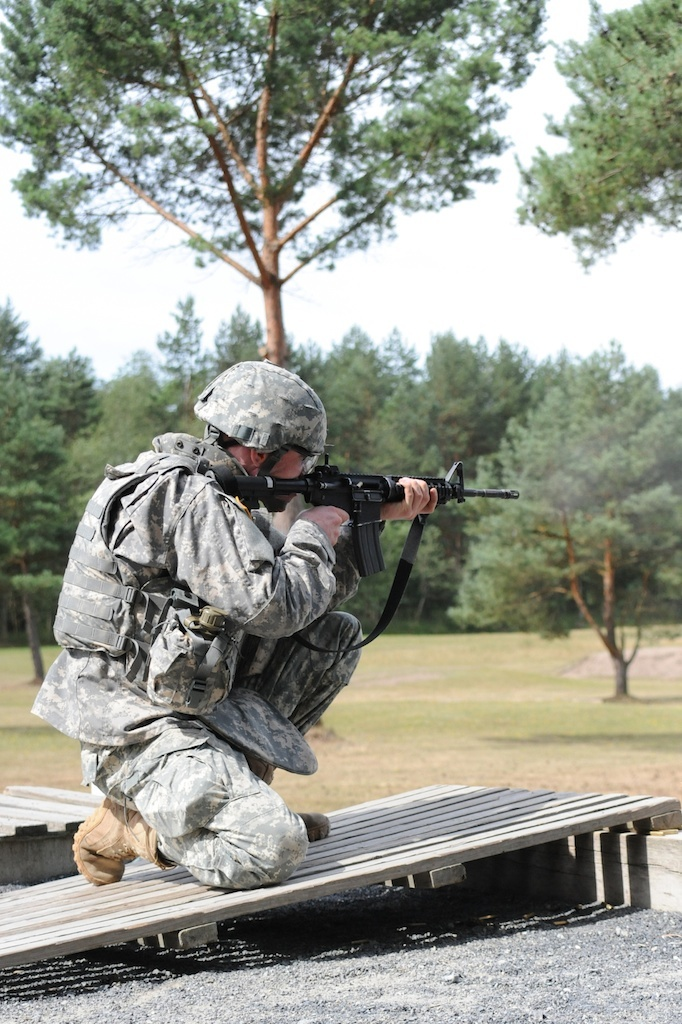Tree: (0, 293, 681, 696), (0, 0, 562, 369), (508, 0, 681, 277)
